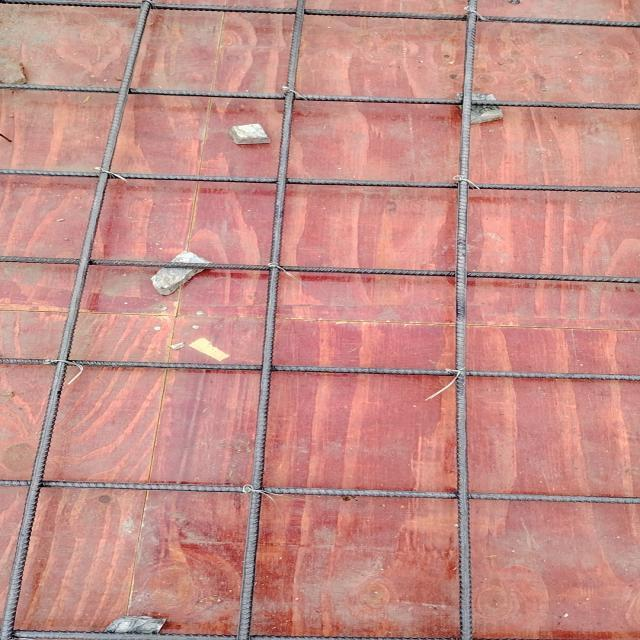ribbed bar: (2, 0, 153, 627), (236, 0, 307, 639), (1, 81, 640, 111), (1, 254, 640, 284), (1, 1, 640, 29), (1, 479, 640, 506), (1, 168, 640, 194), (1, 357, 640, 383), (456, 0, 481, 639), (11, 629, 444, 639)
